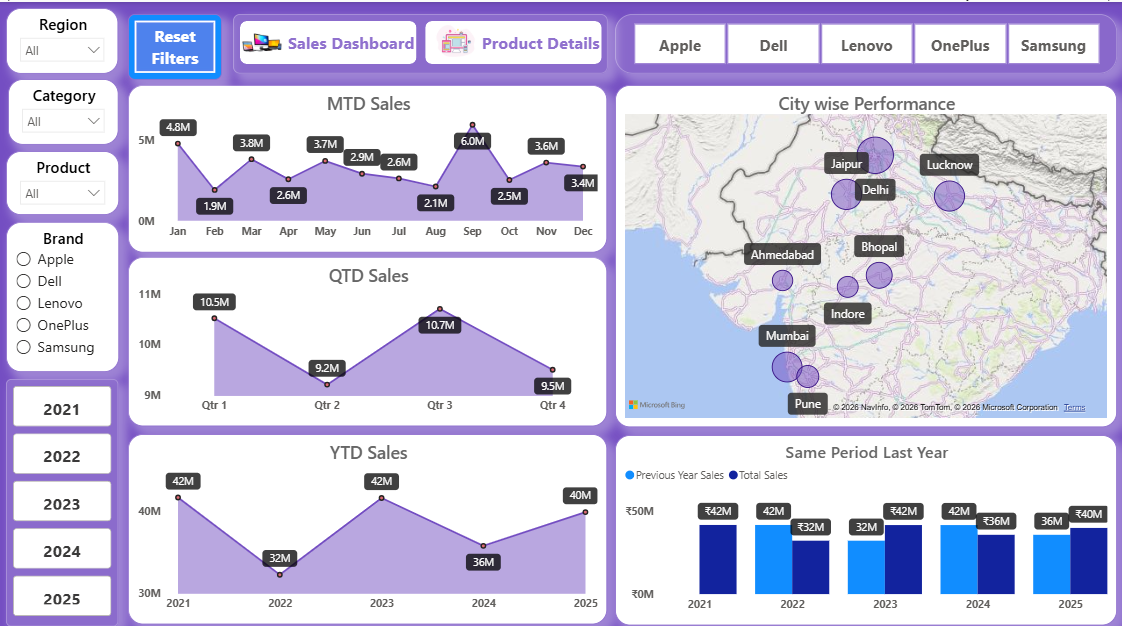

What the dashboard file says about the page in this screenshot:
{"tool":"powerbi","page":{"name":"Time Intelligence","canvas":[1280,720],"ordinal":1},"visuals":[{"type":"lineChart","title":"QTD Sales","fields":{"Y":["Sales_Fact.QTD Sales"],"Category":["New Calendar.Date.Variation.Date Hierarchy.Quarter"]},"box":[147.2,290.8,546.2,193.3],"z":0},{"type":"lineChart","title":"MTD Sales","fields":{"Y":["Sales_Fact.MTD Sales"],"Category":["New Calendar.Month Short"]},"box":[147.2,94,546.2,190.6],"z":1000},{"type":"lineChart","title":"YTD Sales","fields":{"Y":["Sales_Fact.YTD Sales"],"Category":["New Calendar.Date.Variation.Date Hierarchy.Year"]},"box":[147.4,492.6,546.1,217],"z":2000},{"type":"slicer","title":"Region","fields":{"Values":["Region.Region"]},"box":[7.8,6.8,128.4,74.9],"z":3000},{"type":"slicer","fields":{"Values":["Products.Brand"]},"box":[701.4,13.3,571.9,68.3],"z":4000},{"type":"slicer","title":"Category","fields":{"Values":["Products.Category"]},"box":[10.1,87.8,126.2,74.7],"z":5000},{"type":"map","title":"City wise Performance","fields":{"Category":["Region.City"],"Size":["Sales_Fact.Total Sales"]},"box":[701.4,94,571.9,390.1],"z":6000},{"type":"clusteredColumnChart","title":"Same Period Last Year","fields":{"Y":["Sales_Fact.Previous Year Sales","Sales_Fact.Total Sales"],"Category":["New Calendar.Year"]},"box":[701.4,493,571.9,217.2],"z":7000},{"type":"shape","box":[266.9,13.3,426.5,68.3],"z":8000},{"type":"pageNavigator","box":[274.9,21.3,412.3,49.7],"z":9000},{"type":"image","box":[492.1,19.5,55.9,49.7],"z":10000},{"type":"image","box":[274.9,21.3,50.5,49.7],"z":11000},{"type":"listSlicer","fields":{"Values":["Products.Brand"]},"box":[8,250.9,128.6,171.1],"z":12000},{"type":"advancedSlicerVisual","fields":{"Values":["Calendar.Year"]},"box":[8.1,429,128.2,281.6],"z":13000},{"type":"slicer","title":"Product","fields":{"Values":["Products.Product_Name"]},"box":[8,169.4,128.6,72.7],"z":14000},{"type":"actionButton","box":[147.4,13.1,107,74.7],"z":15000}]}

Visuals, with their boxes in screenshot pixels (x1, y1, x2, y2), scaled from the page's 1280x720 canvas onto the 1122x626 screenshot:
"QTD Sales" lineChart: 129:253:608:421
"MTD Sales" lineChart: 129:82:608:247
"YTD Sales" lineChart: 129:428:608:617
"Region" slicer: 7:6:119:71
slicer - Products.Brand: 615:12:1116:71
"Category" slicer: 9:76:119:141
"City wise Performance" map: 615:82:1116:421
"Same Period Last Year" clusteredColumnChart: 615:429:1116:617
shape: 234:12:608:71
pageNavigator: 241:19:602:62
image: 431:17:480:60
image: 241:19:285:62
listSlicer - Products.Brand: 7:218:120:367
advancedSlicerVisual - Calendar.Year: 7:373:119:618
"Product" slicer: 7:147:120:210
actionButton: 129:11:223:76
